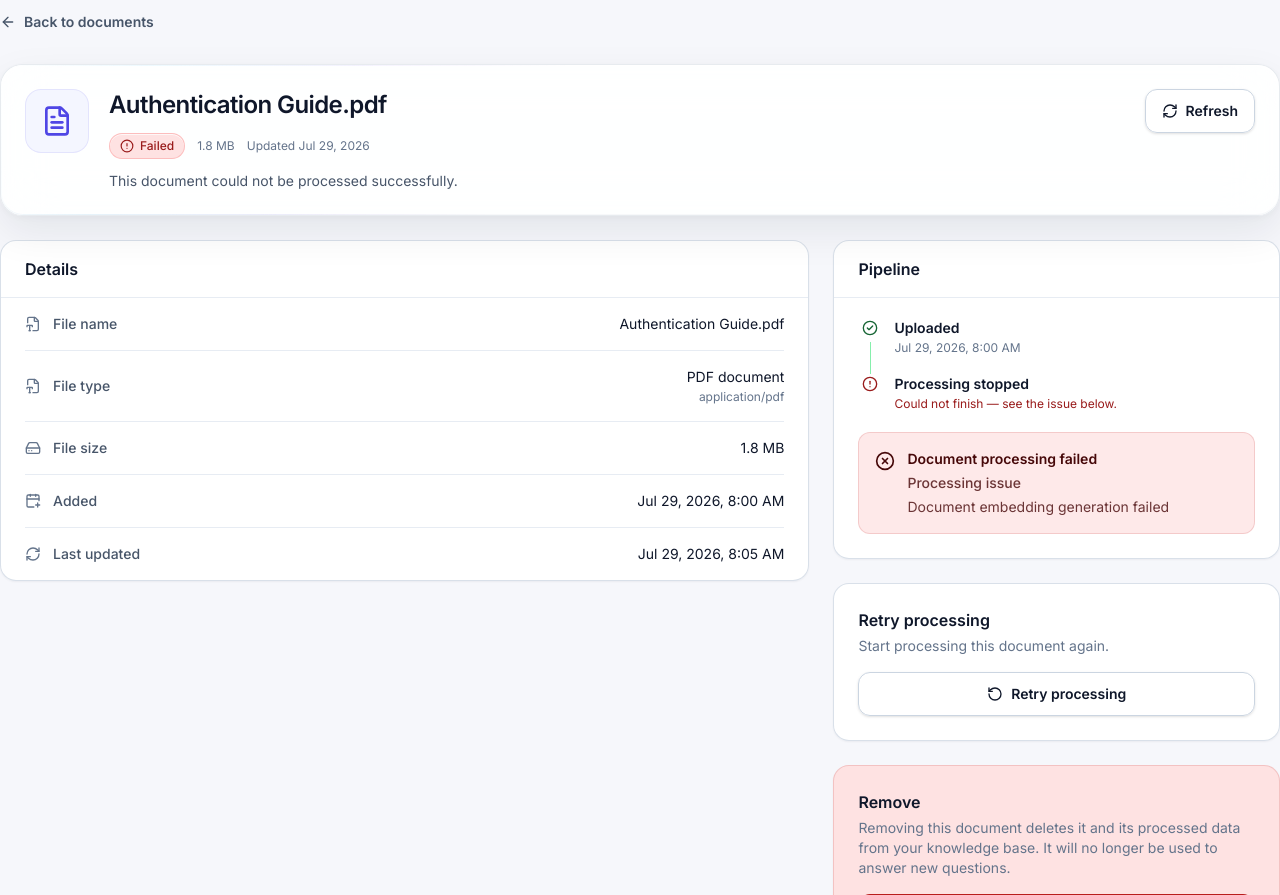
Test: Document details page › opens and cancels Retry without sending a request, then restores focus
The width and height of the screenshot is (1280, 895).
Click the button "Retry processing".
click(1057, 694)  # box x1=858 y1=672 x2=1255 y2=716
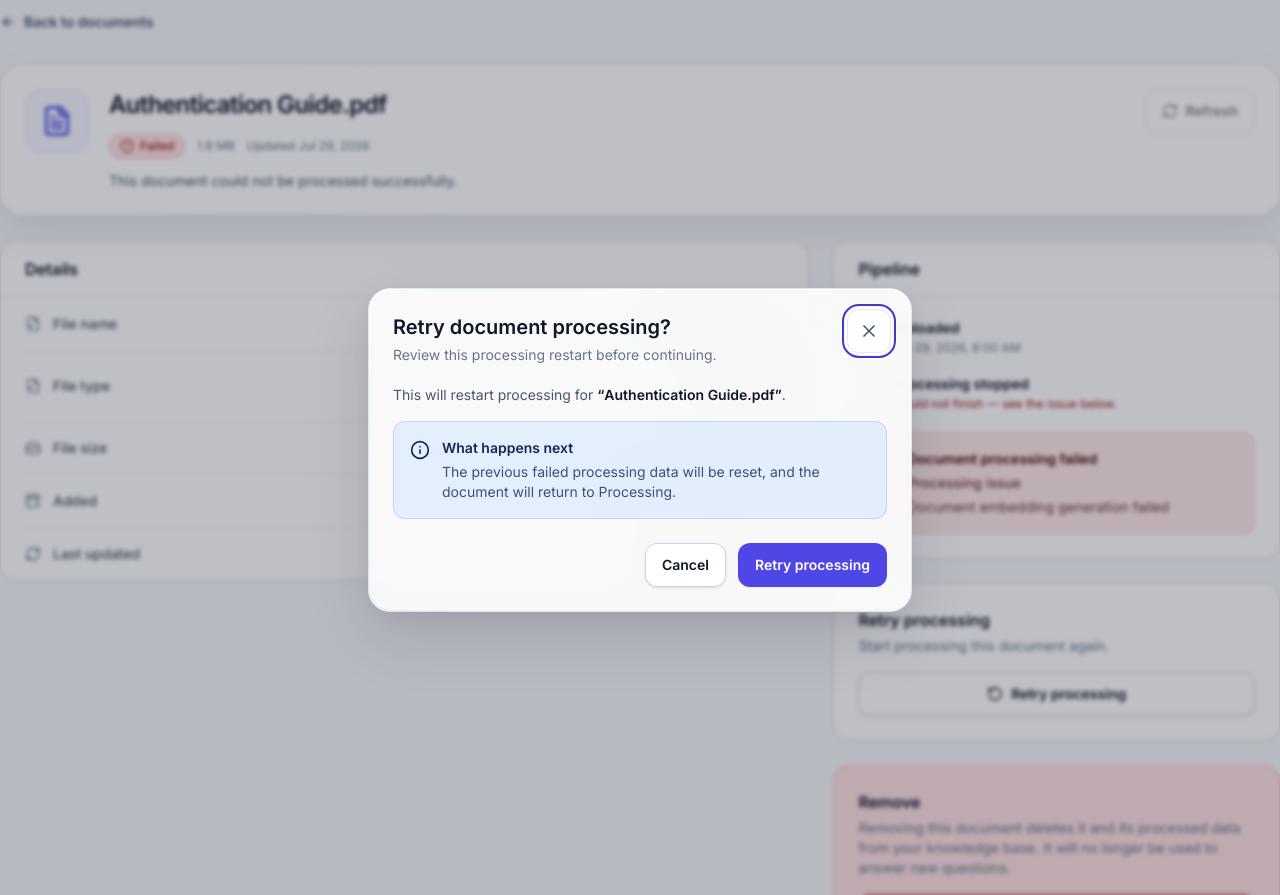
Expected: the dialog "Retry document processing?" is shown, x1=368 y1=288 x2=912 y2=612
Click the button "Cancel".
click(685, 565)  # box x1=645 y1=543 x2=726 y2=587
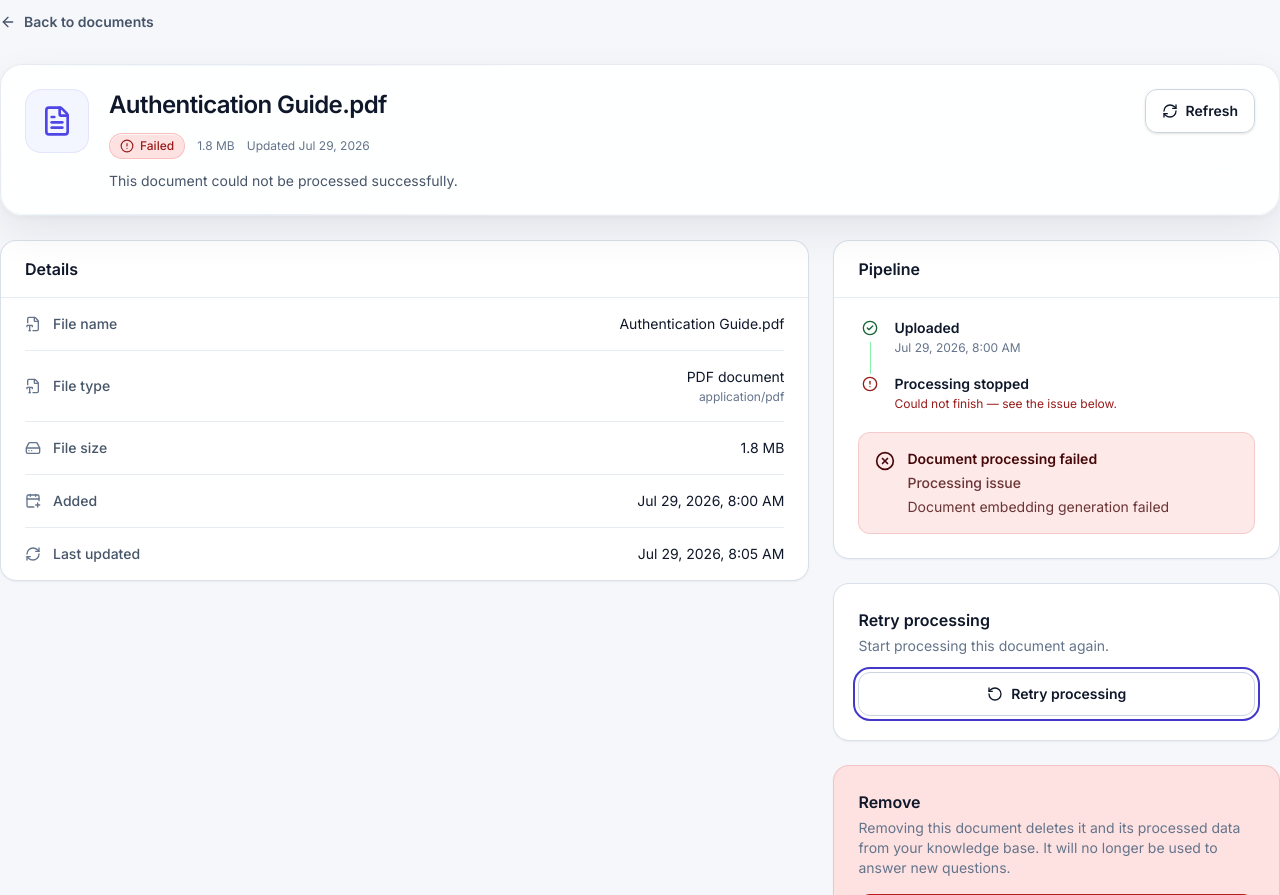
Expected: the heading "Retry document processing?" is gone
